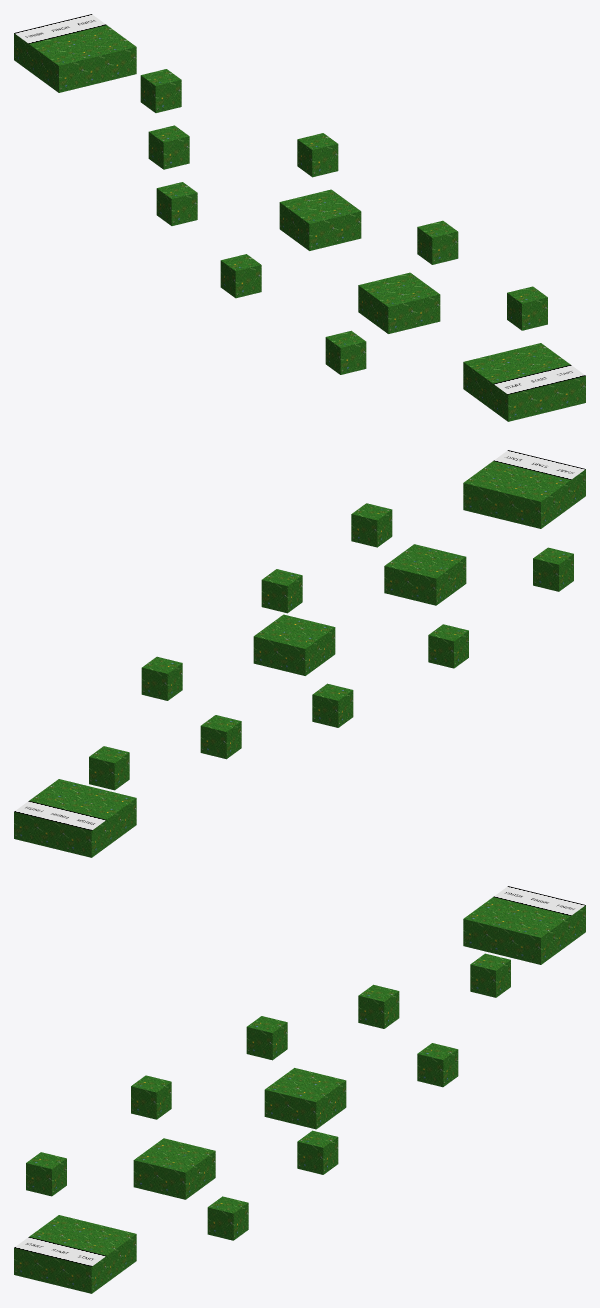
The model's file is test_jump_challenge_1.gltf.
3 renders of one model, top to bottom at view 1: azimuth 30°, elevation 25°; view 2: azimuth 150°, elevation 25°; view 3: azimuth 330°, elevation 25°, orthographic.
Visible parts, largest first — view 1: map; view 2: map; view 3: map.
Part boxes in pixels (bbox=[...]): map: bbox=[14, 14, 585, 421]; map: bbox=[14, 450, 585, 857]; map: bbox=[14, 886, 585, 1293].
Bounding box in the file's own units: 16 × 2 × 66.
Materials: 3 (3 with a texture image).
